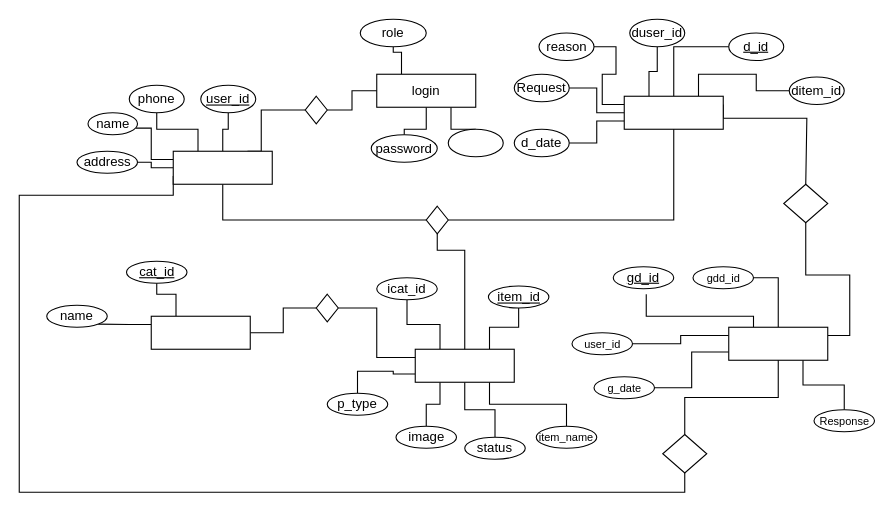
The diagram is 894 pixels wide and 513 high, and some of its shapes have lost their labels. Each missing label, with the centre of its shape:
"category" goes at [200,332].
"donation" goes at [673,112].
"getdonation" goes at [778,343].
"items" goes at [464,365].
"luser_id" goes at [475,142].
"users" goes at [222,167].
